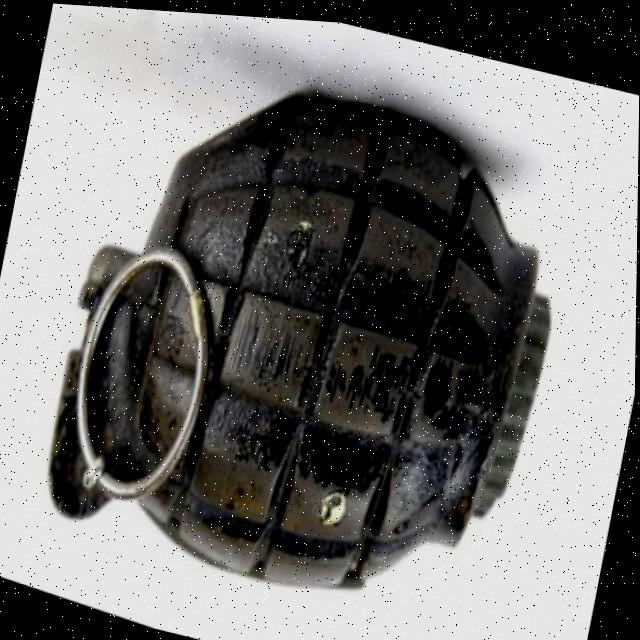grenade: (7, 11, 613, 640)
